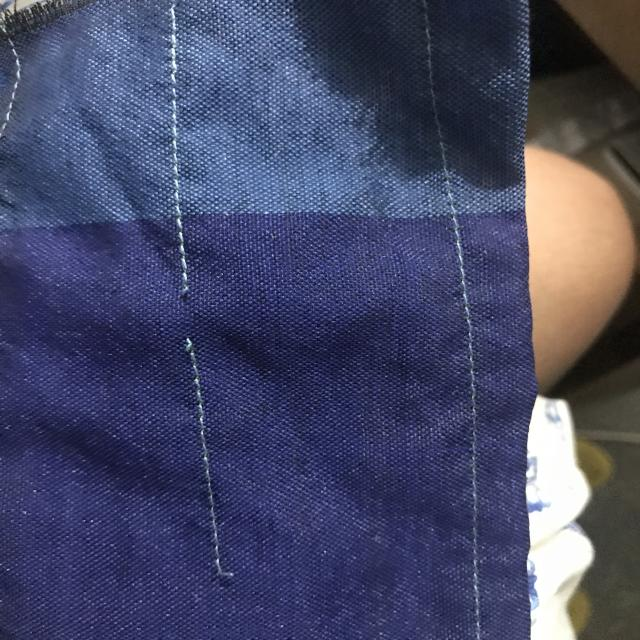broken: (156, 271, 229, 367)
good: (184, 388, 228, 478)
